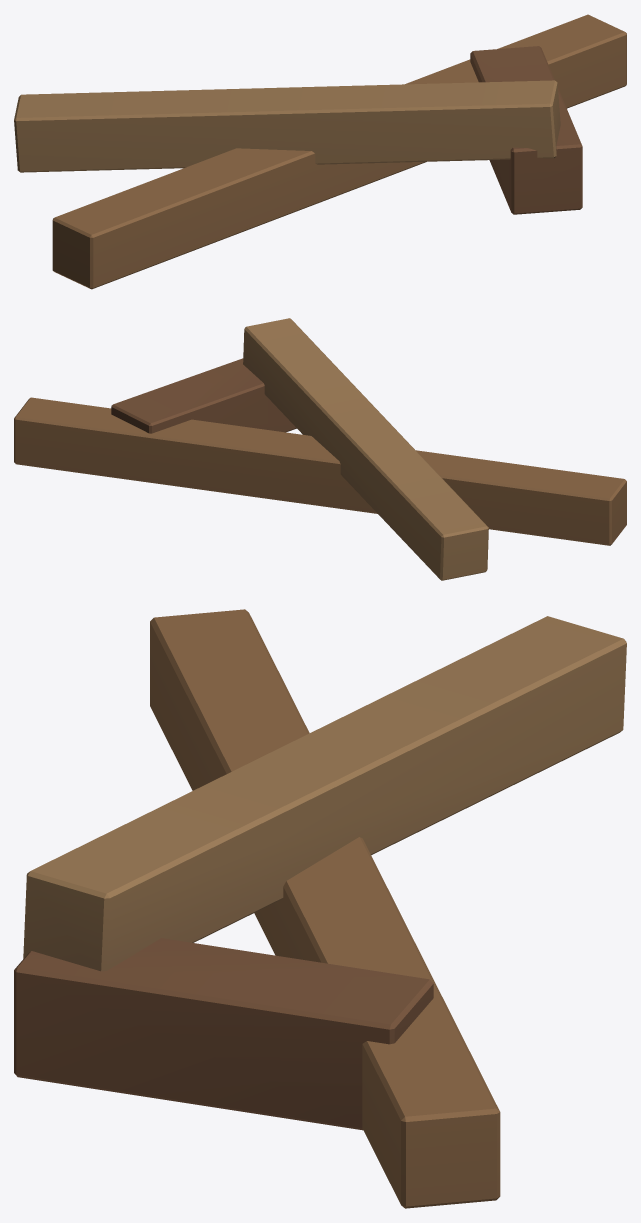
File: BM_TimberPile.glb
The picture shows the model from 3 angles, top to bottom: view 1: azimuth 30°, elevation 25°; view 2: azimuth 150°, elevation 25°; view 3: azimuth 270°, elevation 25°; orthographic projection. The views are drawn at different scales.
Parts seen in each view (by area): view 1: BM_TimberPile__Body; view 2: BM_TimberPile__Body; view 3: BM_TimberPile__Body.
Boxes of the visible parts, x1=… form: BM_TimberPile__Body: x1=14, y1=14, x2=626, y2=289; BM_TimberPile__Body: x1=14, y1=318, x2=626, y2=580; BM_TimberPile__Body: x1=14, y1=609, x2=626, y2=1208.
Size of the model in its own units: 11.93 by 2.01 by 6.05.
